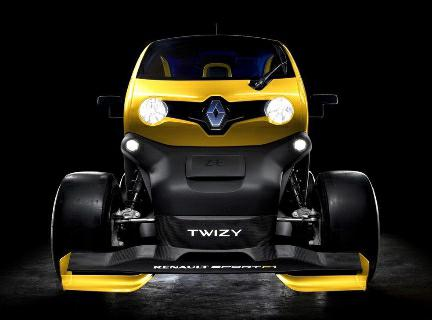雷诺-Twizy: (43, 28, 388, 297)
